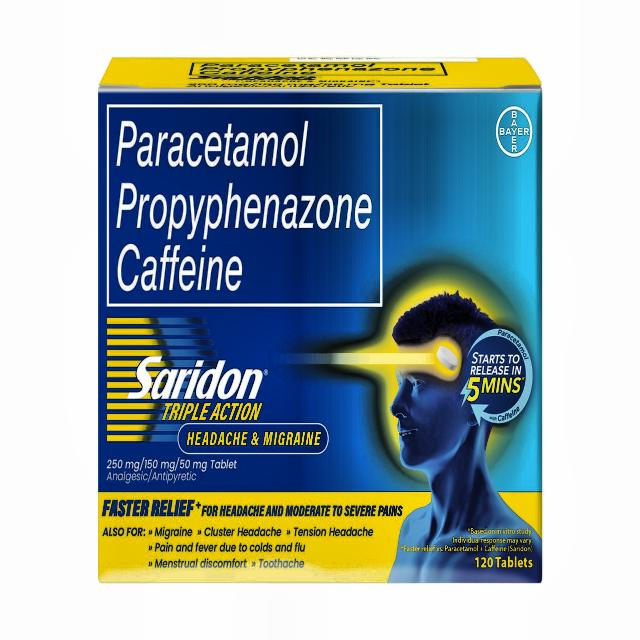Paracetamol: (105, 102, 386, 309)
